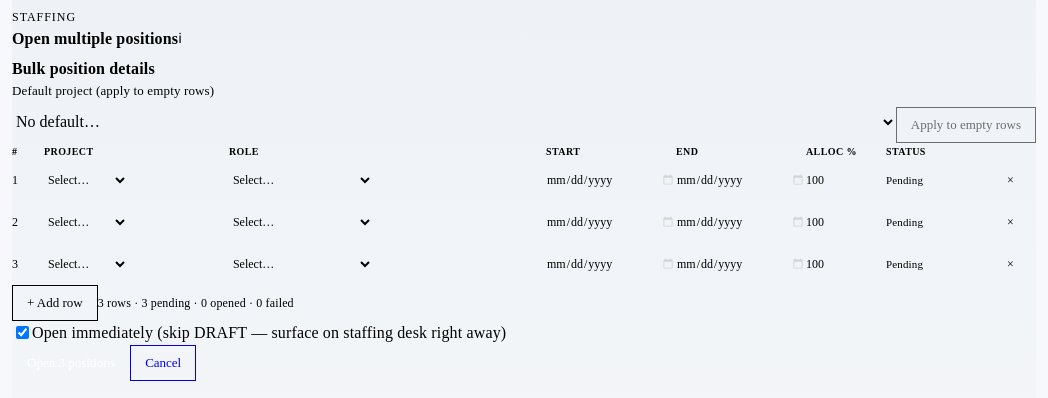
Test: BulkCreatePositionsPage (W2-05) › Apply default project fills every empty row
The image size is (1048, 398).
Select "P-2 — Beta" in the dropdown with test id "bulk-create-default-project" at (454, 122), box x1=12 y1=100 x2=896 y2=142
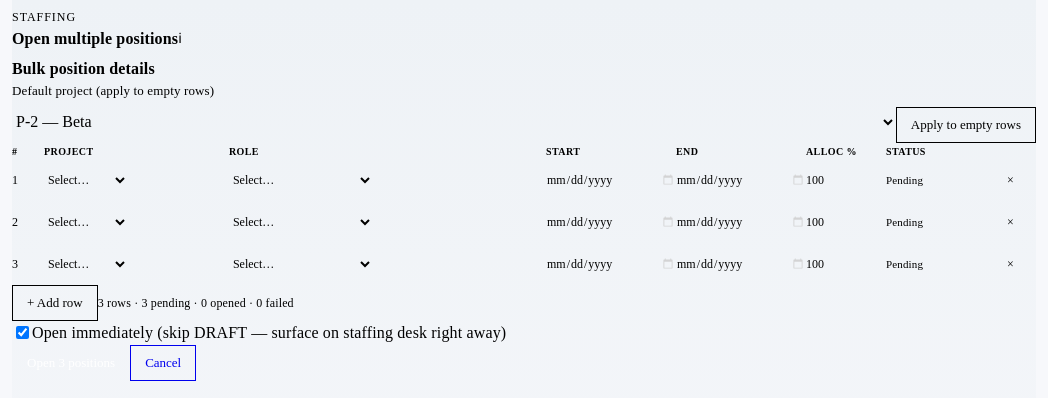
Click the button with test id "bulk-create-apply-default" at (966, 124), box x1=896 y1=106 x2=1036 y2=142
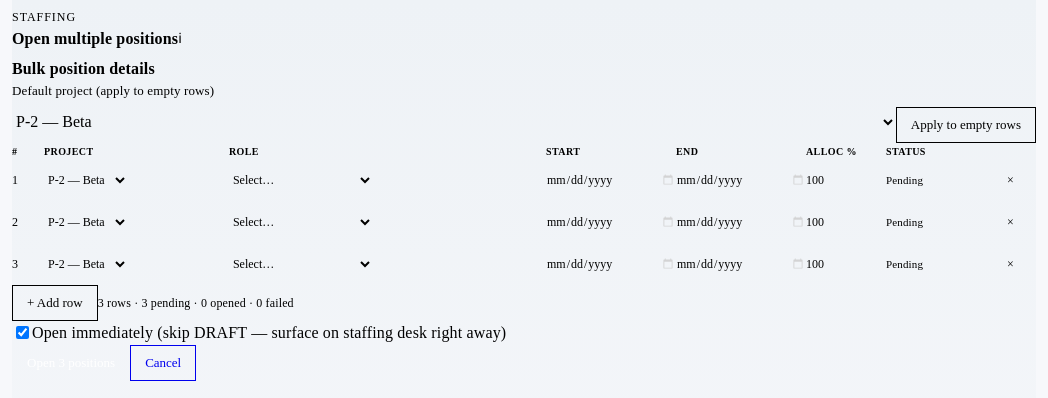
Result: the dropdown with test id "bulk-create-row-0-project" shows "P-2 — Beta" at x1=44 y1=159 x2=128 y2=201
Result: the dropdown with test id "bulk-create-row-1-project" shows "P-2 — Beta" at x1=44 y1=201 x2=128 y2=243
Result: the dropdown with test id "bulk-create-row-2-project" shows "P-2 — Beta" at x1=44 y1=243 x2=128 y2=285
